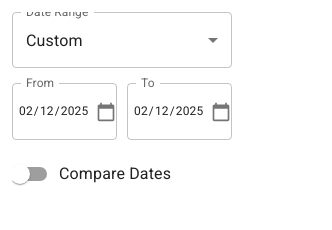
Test: DateSelection › typing a date updates the value; an inverted range shows an error
Type "2025-03-01" into the date field labelled "From" at [53, 112], box [12,83,94,140]
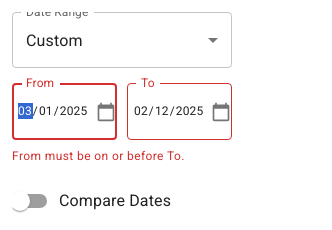
Result: the message reads "From must be on or before To." at [12,149,185,163]
